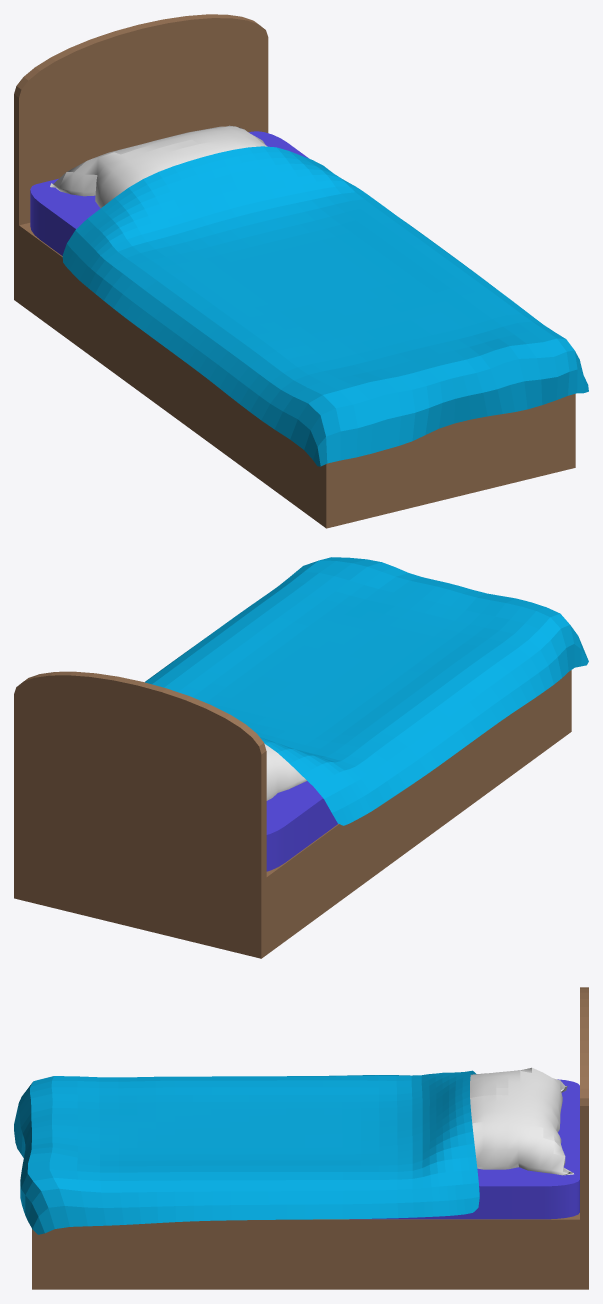
The model's file is New bed model.fbx.
The picture shows the model from 3 angles, top to bottom: view 1: azimuth 30°, elevation 25°; view 2: azimuth 150°, elevation 25°; view 3: azimuth 270°, elevation 25°; orthographic projection. The views are drawn at different scales.
Visible parts, largest first — view 1: Blanket, Base Bed, Pillow, Mattress; view 2: Base Bed, Blanket, Mattress, Pillow; view 3: Blanket, Base Bed, Pillow, Mattress.
Boxes of the visible parts, x1,y1,x2,y2 form: Blanket: (62, 146, 588, 466); Base Bed: (14, 14, 575, 528); Pillow: (50, 125, 267, 207); Mattress: (30, 131, 308, 255); Base Bed: (14, 670, 571, 958); Blanket: (145, 557, 588, 825); Mattress: (266, 781, 337, 871); Pillow: (264, 743, 306, 800); Blanket: (14, 1070, 479, 1234); Base Bed: (32, 987, 588, 1289); Pillow: (470, 1067, 573, 1175); Mattress: (349, 1079, 579, 1219).
Size of the model in its own units: 246 by 188 by 448.
